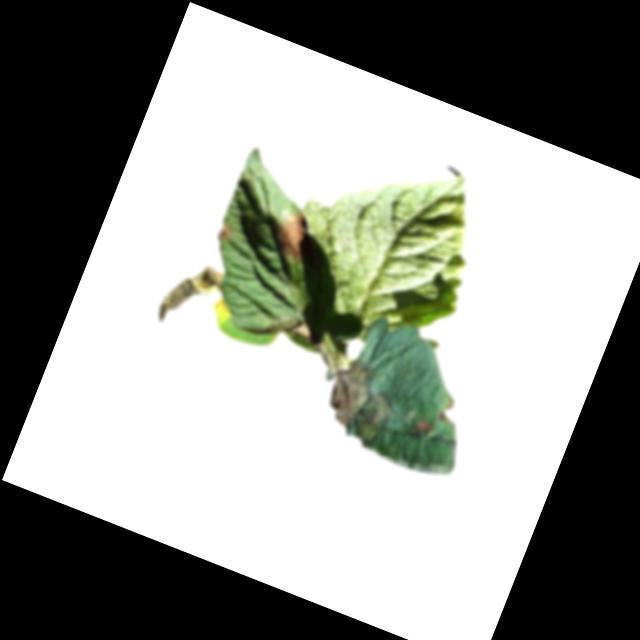Late_blight: (317, 355, 404, 449), (153, 252, 230, 340), (271, 208, 313, 262), (212, 218, 236, 247), (414, 413, 439, 436)
healthy: (265, 125, 504, 371)
